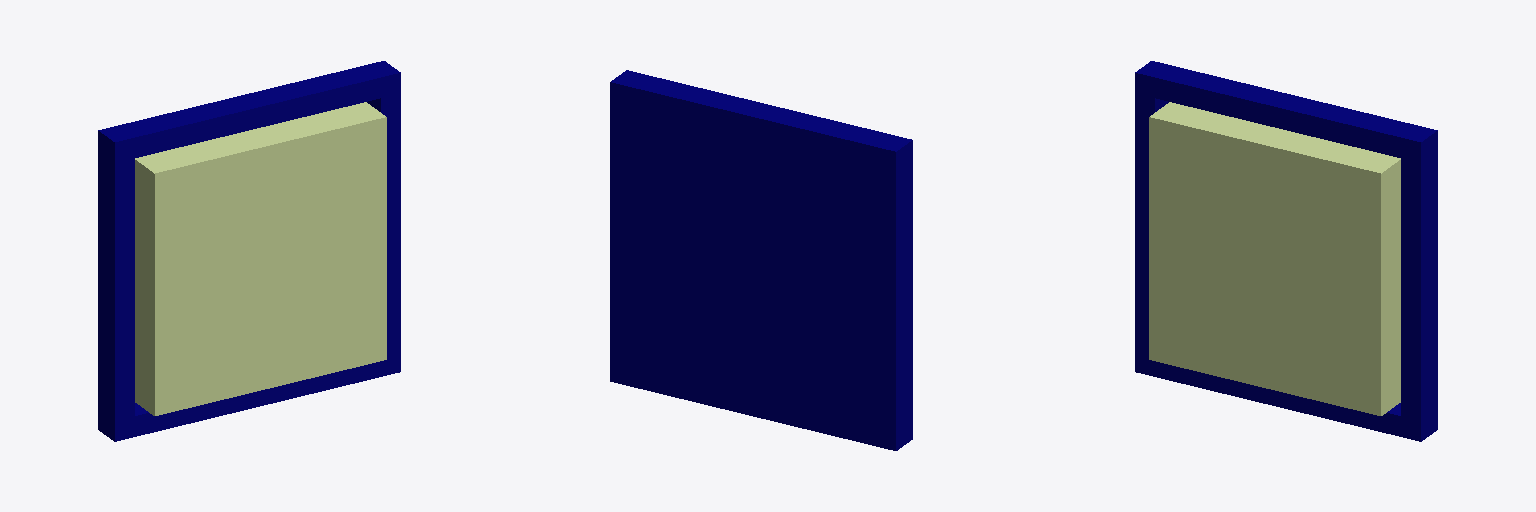
Rendered from button.obj.
The picture shows the model from 3 angles: view 1: azimuth 30°, elevation 25°; view 2: azimuth 150°, elevation 25°; view 3: azimuth 330°, elevation 25°; orthographic projection.
Parts seen in each view (by area): view 1: inner_button, outter_button; view 2: outter_button; view 3: inner_button, outter_button.
Boxes of the visible parts, box(x1,y1,x2,y2) form: inner_button: box(135, 102, 386, 415); outter_button: box(98, 61, 400, 441); outter_button: box(610, 70, 912, 450); inner_button: box(1149, 102, 1400, 415); outter_button: box(1135, 61, 1437, 441).
Bounding box in the file's own units: 40 × 40 × 7.12.